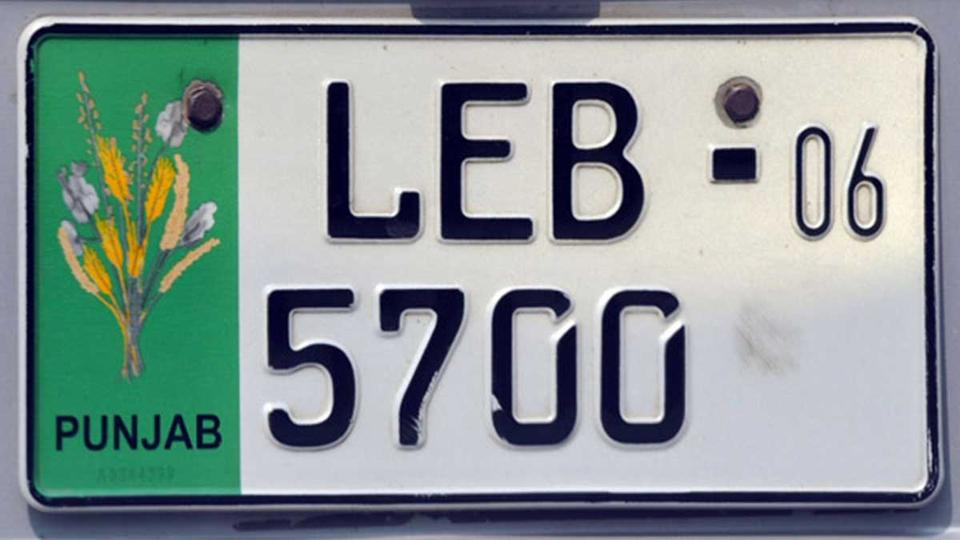NumberPlate: (40, 28, 934, 513)
